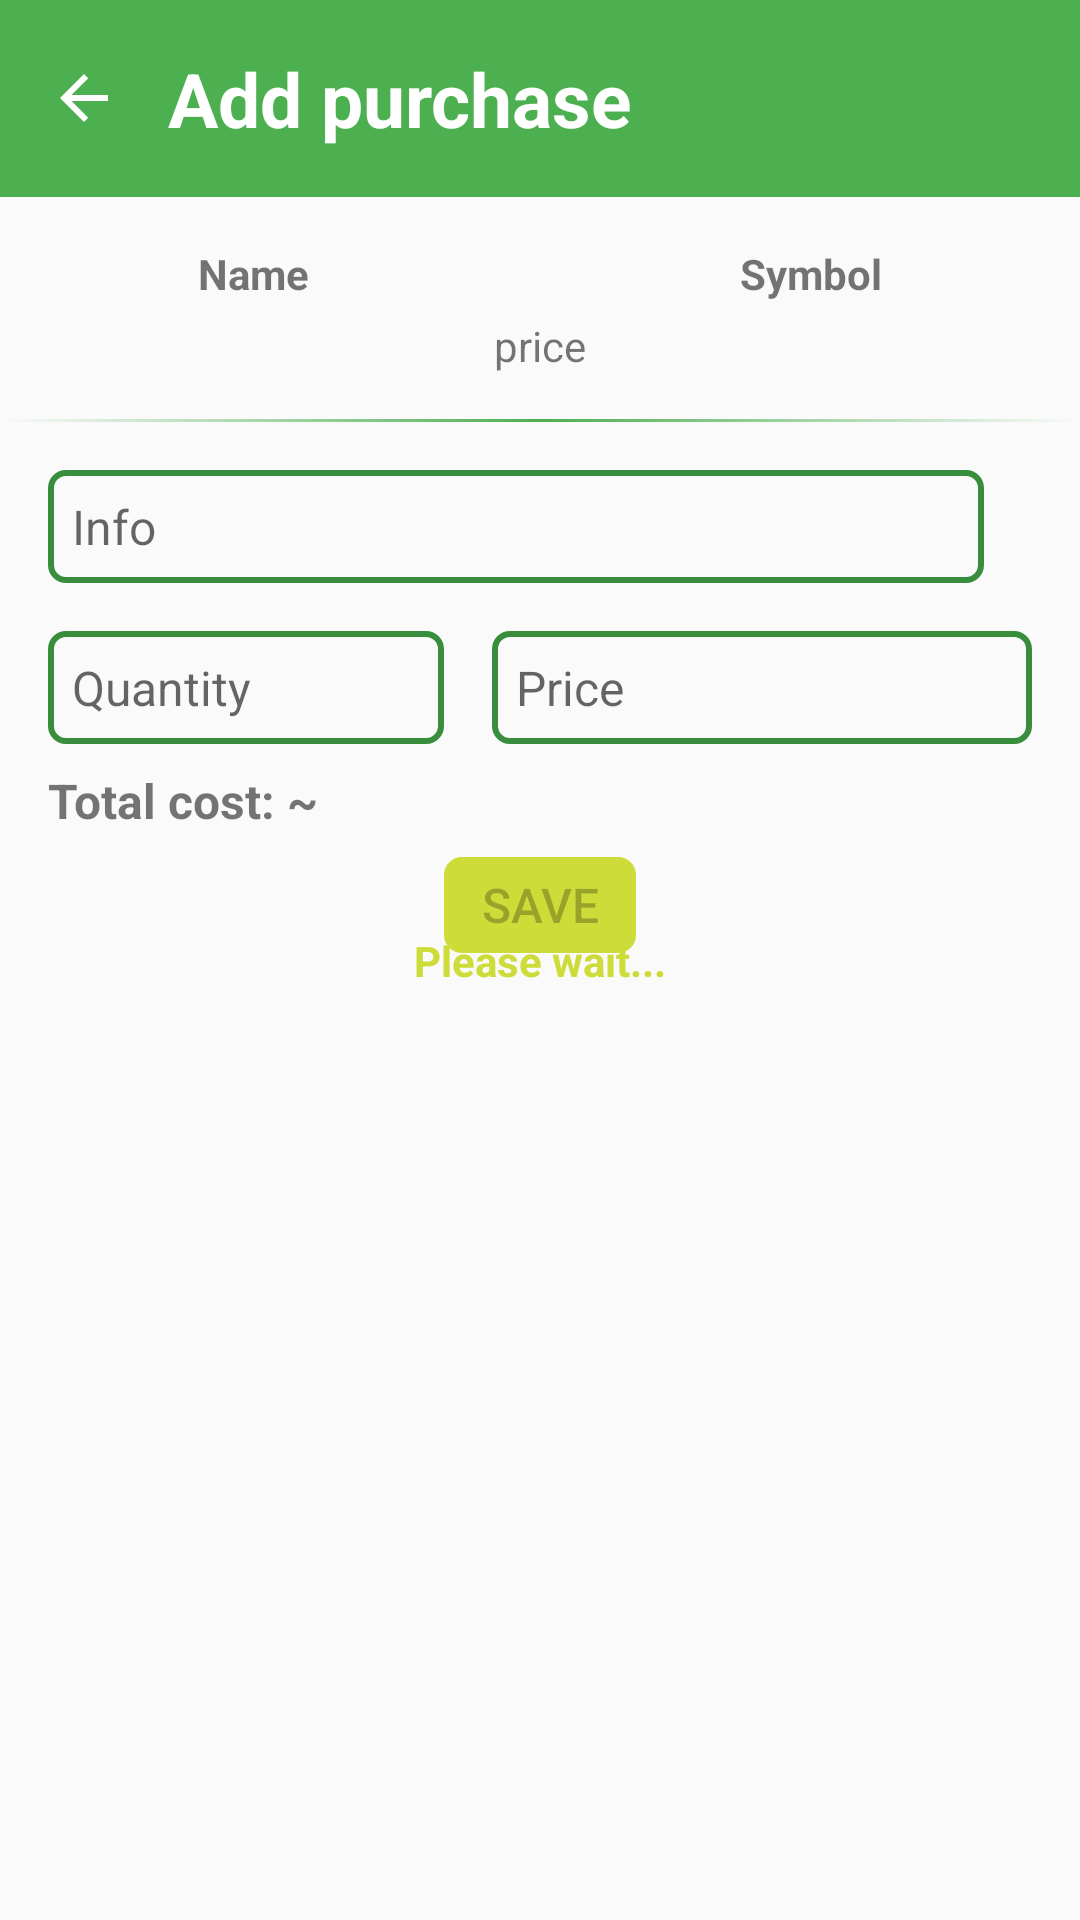

Where icons sit on this 1080 × 1920 app screen, as bbox=[x1, y1, x2, y2]:
arrow back: bbox=[60, 74, 108, 122]
